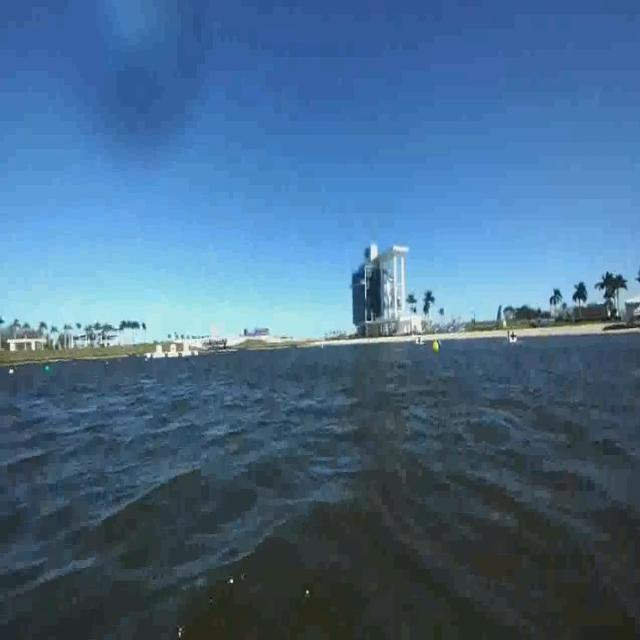yellow-buoy: (432, 340, 440, 355)
